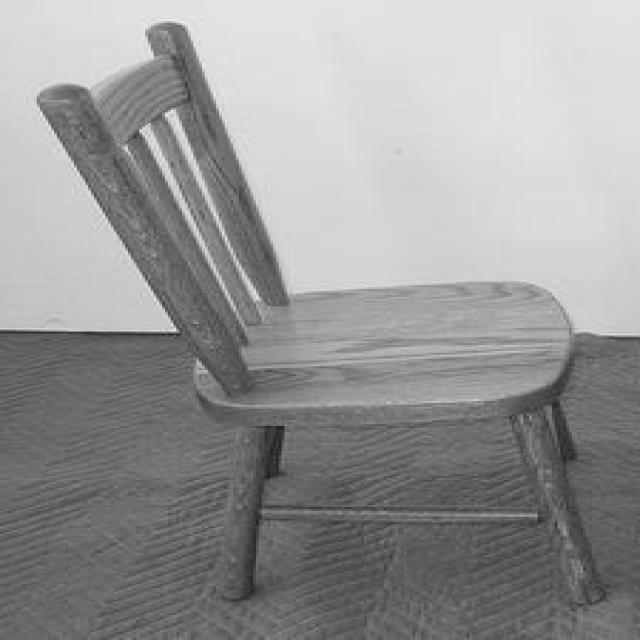chair: (43, 18, 605, 605)
